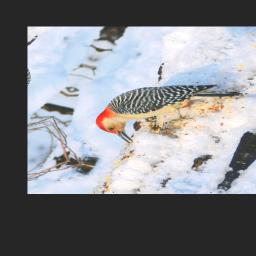Woodpecker: (84, 64, 251, 159)
